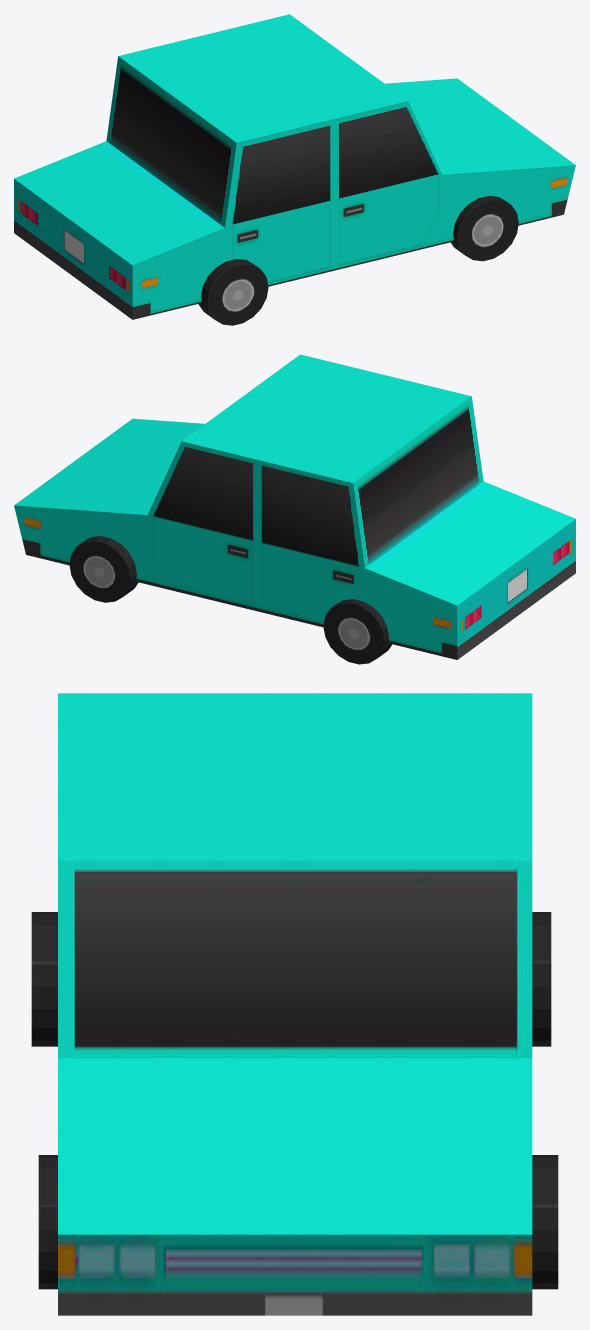
The picture shows the model from 3 angles, top to bottom: view 1: azimuth 30°, elevation 25°; view 2: azimuth 150°, elevation 25°; view 3: azimuth 270°, elevation 25°; orthographic projection. The views are drawn at different scales.
Visible parts, largest first — view 1: Car_06; view 2: Car_06; view 3: Car_06.
Part boxes in pixels (x1,y1,x2,y2): Car_06: (14,14,575,325); Car_06: (14,354,575,664); Car_06: (31,693,558,1315).
Bounding box in the file's own units: 76.54 × 28.93 × 39.39.
